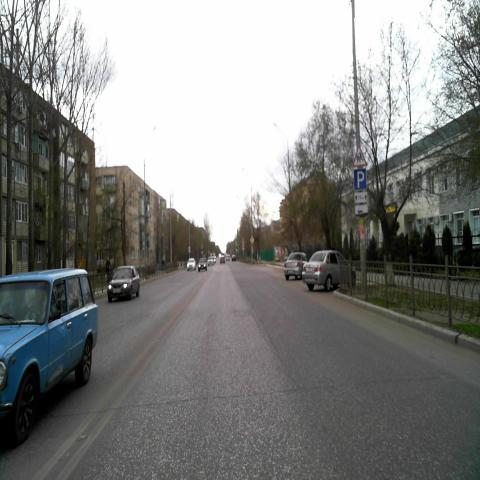8_6_4: (355, 204, 368, 214)
